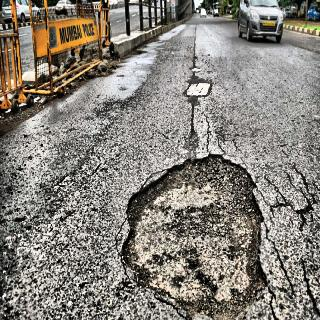pothole: (120, 152, 270, 320)
